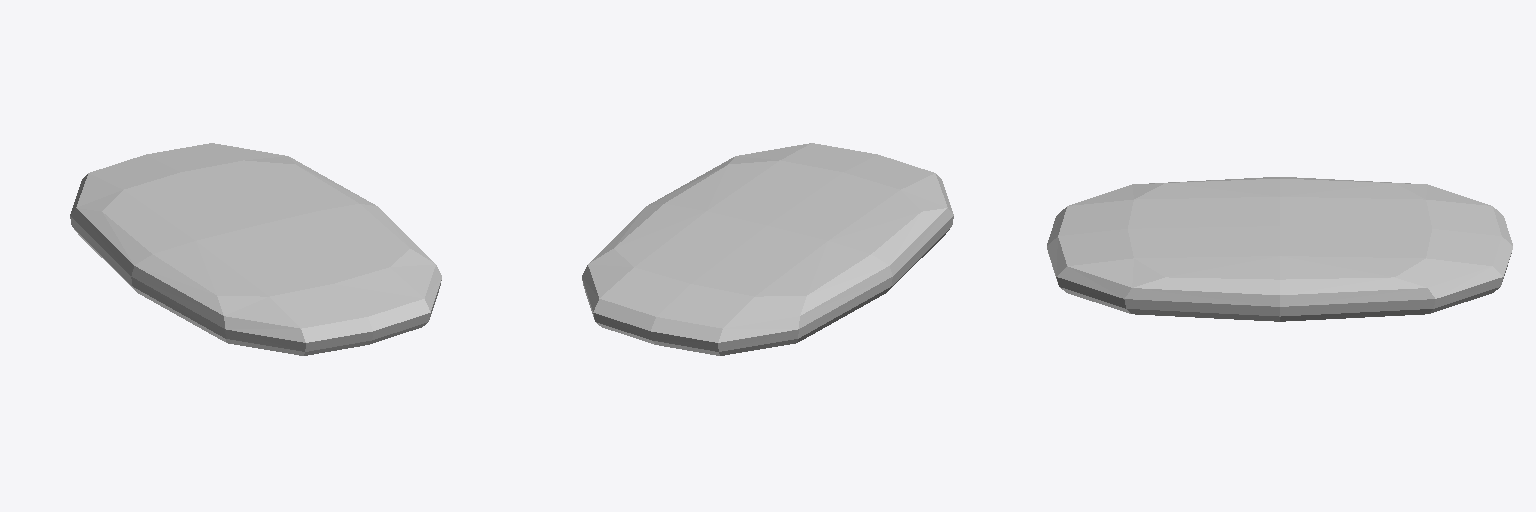
The model's file is FirePlatform.obj.
3 renders of one model, left to right at view 1: azimuth 30°, elevation 25°; view 2: azimuth 150°, elevation 25°; view 3: azimuth 270°, elevation 25°, orthographic.
Visible parts, largest first — view 1: Cube; view 2: Cube; view 3: Cube.
Part boxes in pixels (bbox=[...]): Cube: bbox=[70, 143, 441, 355]; Cube: bbox=[582, 143, 953, 355]; Cube: bbox=[1047, 177, 1512, 321].
Size of the model in its own units: 2.66 by 0.6166 by 4.31.